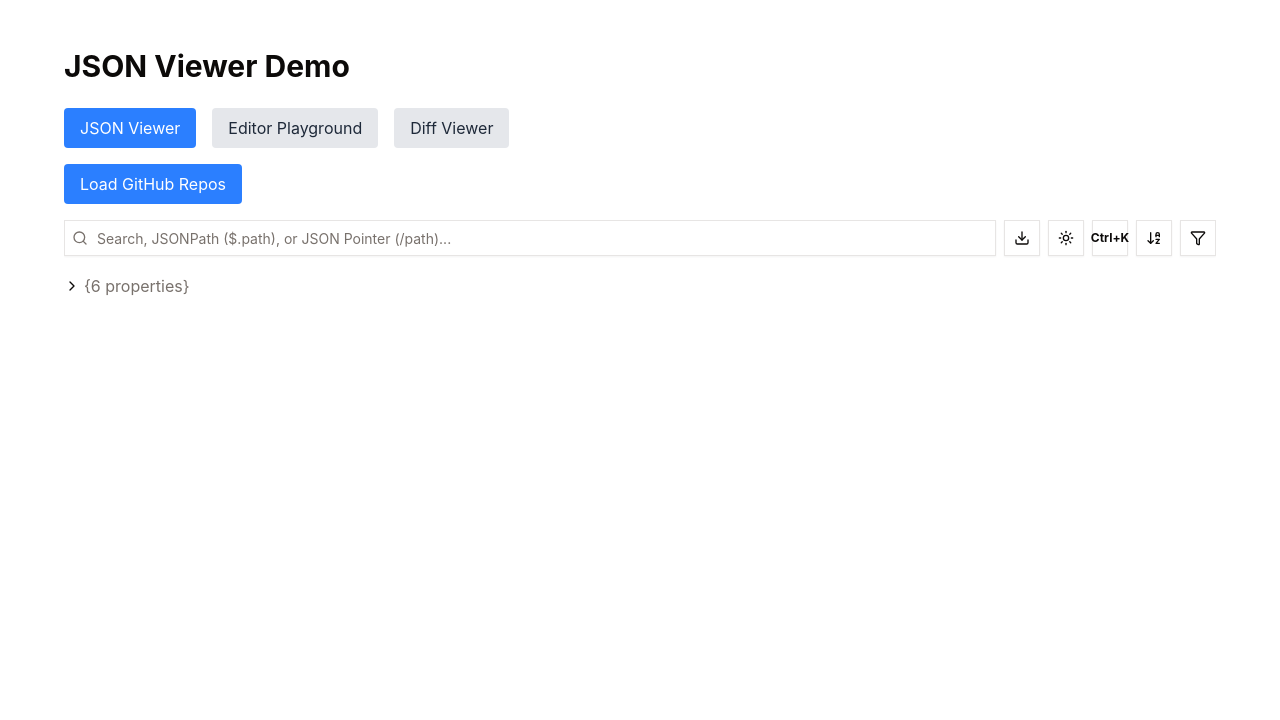
Test: Demo App › View switching › switches between viewer and diff views
Check: the button "JSON Viewer" is shown, box top-left (64, 108), bottom-right (196, 148)
Step 1. Click the button "Diff Viewer" → (452, 128), box top-left (394, 108), bottom-right (510, 148)
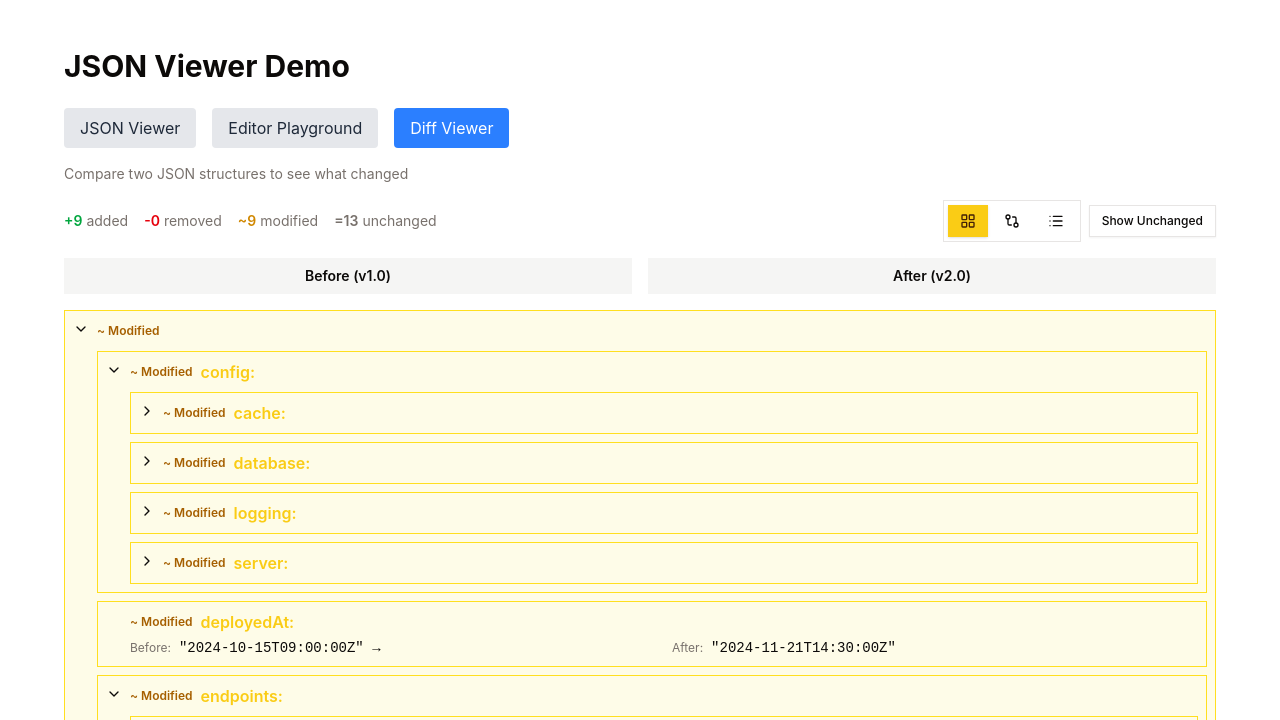
Check: the text "Compare two JSON structures to see what changed" is shown, box top-left (64, 165), bottom-right (408, 182)
Step 2. Click the button "JSON Viewer" → (130, 128), box top-left (64, 108), bottom-right (196, 148)
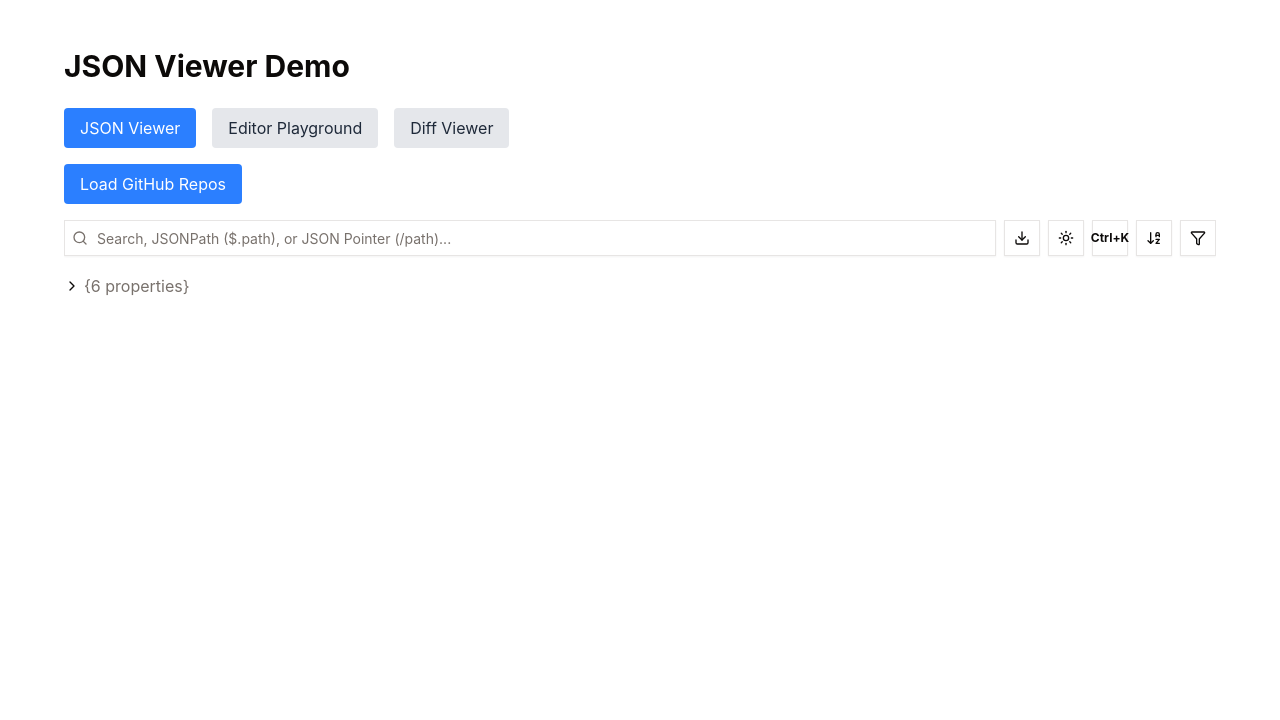
Check: the button "Load GitHub Repos" is shown, box top-left (64, 164), bottom-right (242, 204)
